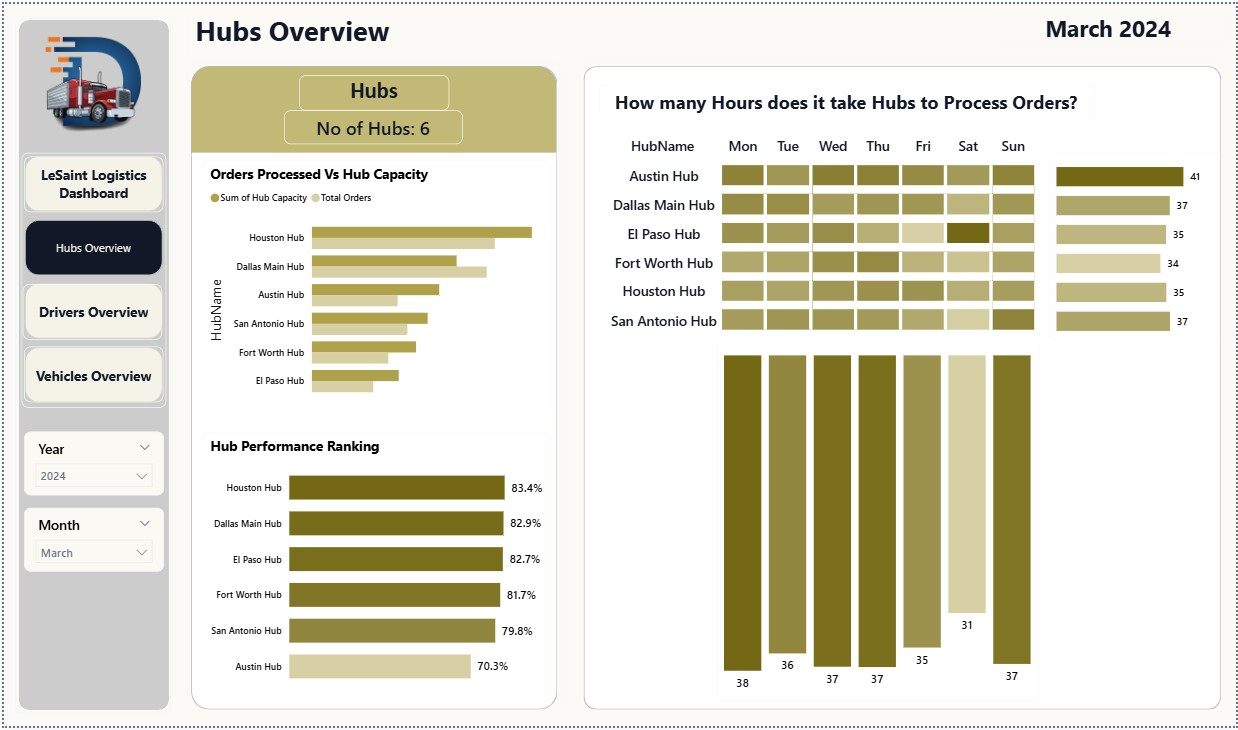

This screenshot's page, from the dashboard's own definition file:
{"tool":"powerbi","page":{"name":"Hubs Overview","canvas":[1450,850],"ordinal":1},"visuals":[{"type":"shape","box":[13.3,15,185,820],"z":0},{"type":"textbox","box":[216.7,0,531.7,70],"z":1000},{"type":"slicer","fields":{"Values":["Date Table.Month"]},"box":[23.8,592.5,165,75],"z":2000},{"type":"image","box":[23.1,26.2,166.2,138.5],"z":3000},{"type":"cardVisual","fields":{"Data":["_Measures.Year Month title"]},"box":[1161.7,6.7,275,40],"z":4000},{"type":"shape","box":[678.5,69.3,757.9,765.1],"z":5000},{"type":"shape","box":[216.5,69.3,438.9,765.1],"z":6000},{"type":"shape","box":[216.4,69.3,437.9,110],"z":7000},{"type":"textbox","box":[346.7,83.3,176.7,41.7],"z":8000},{"type":"cardVisual","fields":{"Data":["Hubs_Dim.No of Hubs"]},"box":[330,125,210,40],"z":9000},{"type":"clusteredBarChart","title":"Orders Processed Vs Hub Capacity","fields":{"Category":["Hubs_Dim.HubName"],"Y":["Sum(Hubs_Dim.Hub Capacity)","_Measures.Total Orders"]},"box":[233.3,183.3,410,296.7],"z":10000},{"type":"barChart","title":"Hub Performance Ranking ","fields":{"Category":["Hubs_Dim.HubName"],"Y":["_Measures.On Time Delivery Rate"]},"box":[233.9,503.8,410,316.2],"z":11000},{"type":"pivotTable","fields":{"Rows":["Hubs_Dim.HubName"],"Columns":["Date Table.Day"],"Values":["_Measures.Avg Delivery Time (Hrs)"]},"box":[700.2,145.8,529.8,249.7],"z":12000},{"type":"columnChart","fields":{"Category":["Date Table.Day"],"Y":["_Measures.Avg Delivery Time (Hrs)"]},"box":[838.7,395.6,379.7,424.4],"z":13000},{"type":"barChart","fields":{"Category":["Hubs_Dim.HubName"],"Y":["_Measures.Avg Delivery Time (Hrs)"]},"box":[1230,174.3,218.6,220],"z":14000},{"type":"cardVisual","fields":{"Data":["Hubs_Dim.Hub Title"]},"box":[700,94.3,582.9,40],"z":15000},{"type":"pageNavigator","box":[20,174.3,170,300],"z":16000},{"type":"slicer","fields":{"Values":["Date Table.Year"]},"box":[23.3,503.3,165,75],"z":17000},{"type":"actionButton","box":[24.2,180,164.2,65.8],"z":18000},{"type":"actionButton","box":[22.5,329.2,164.2,65.8],"z":19000},{"type":"actionButton","box":[24.2,402.5,164.2,65.8],"z":20000}]}

Visuals, with their boxes in screenshot pixels (x1, y1, x2, y2), scaled from the page's 1450x850 canvas onto the 1238x730 screenshot:
shape: bbox(11, 13, 169, 717)
textbox: bbox(185, 0, 639, 60)
slicer - Date Table.Month: bbox(20, 509, 161, 573)
image: bbox(20, 23, 162, 141)
cardVisual - _Measures.Year Month title: bbox(992, 6, 1227, 40)
shape: bbox(579, 60, 1226, 717)
shape: bbox(185, 60, 560, 717)
shape: bbox(185, 60, 559, 154)
textbox: bbox(296, 72, 447, 107)
cardVisual - Hubs_Dim.No of Hubs: bbox(282, 107, 461, 142)
"Orders Processed Vs Hub Capacity" clusteredBarChart: bbox(199, 157, 549, 412)
"Hub Performance Ranking " barChart: bbox(200, 433, 550, 704)
pivotTable - Hubs_Dim.HubName x Date Table.Day: bbox(598, 125, 1050, 340)
columnChart - Date Table.Day x _Measures.Avg Delivery Time (Hrs): bbox(716, 340, 1040, 704)
barChart - Hubs_Dim.HubName x _Measures.Avg Delivery Time (Hrs): bbox(1050, 150, 1237, 339)
cardVisual - Hubs_Dim.Hub Title: bbox(598, 81, 1095, 115)
pageNavigator: bbox(17, 150, 162, 407)
slicer - Date Table.Year: bbox(20, 432, 161, 497)
actionButton: bbox(21, 155, 161, 211)
actionButton: bbox(19, 283, 159, 339)
actionButton: bbox(21, 346, 161, 402)
